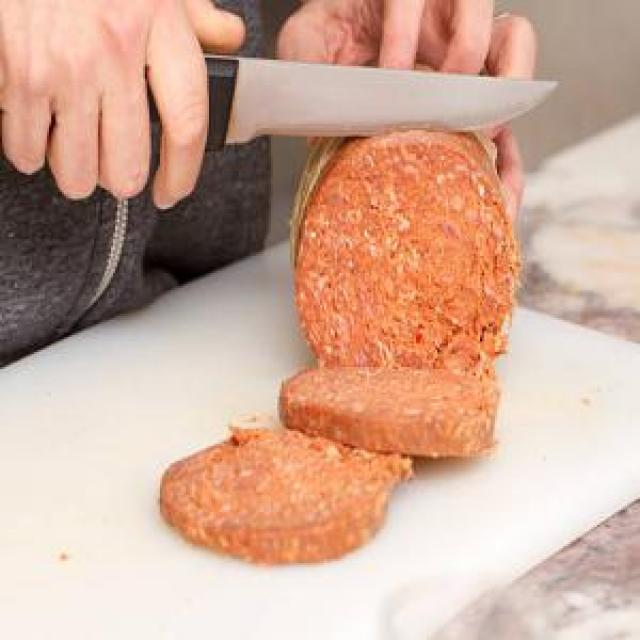knife: (47, 57, 564, 156)
